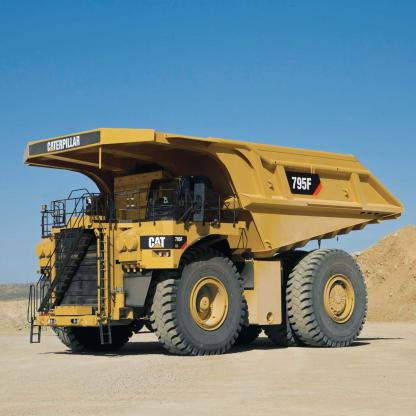dump_truck: (21, 126, 406, 366)
